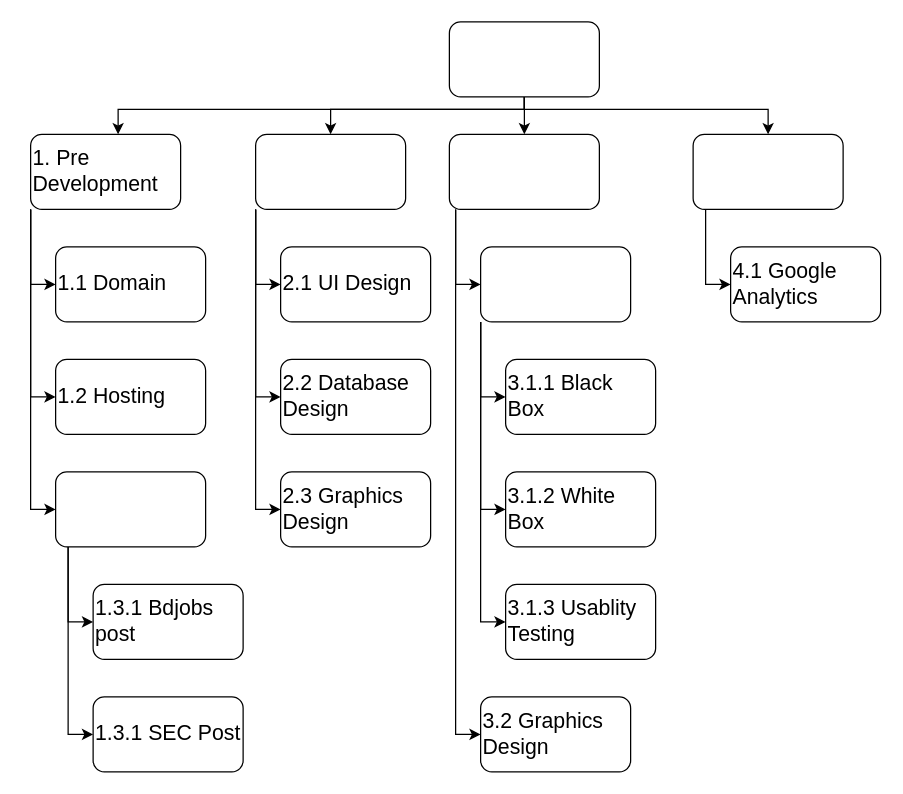
Some shapes in this 903 by 794 pixel diagram are drawn without their labels. Each missing label, with the centre of its shape:
"1.3 Hiring Developer" belongs at (x=130, y=509).
"2. During Development" belongs at (x=330, y=171).
"3. Post Development" belongs at (x=523, y=171).
"3.1 Testing" belongs at (x=555, y=284).
"4. Analyze" belongs at (x=767, y=171).
"Web Development" belongs at (x=523, y=59).
